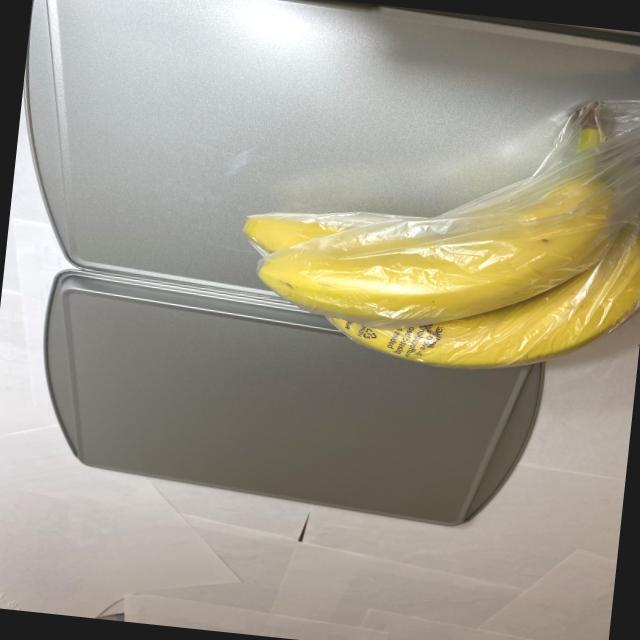banana: (224, 51, 640, 394)
